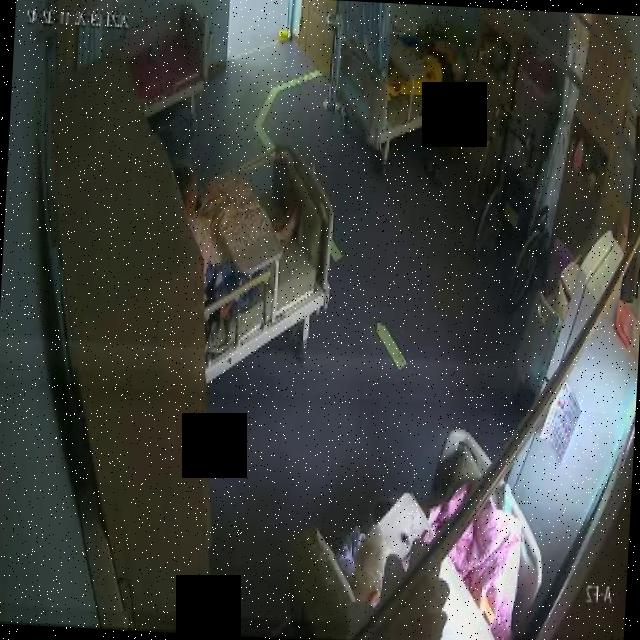bed: (300, 420, 551, 640), (204, 140, 340, 392), (331, 37, 464, 180), (142, 0, 214, 132)
